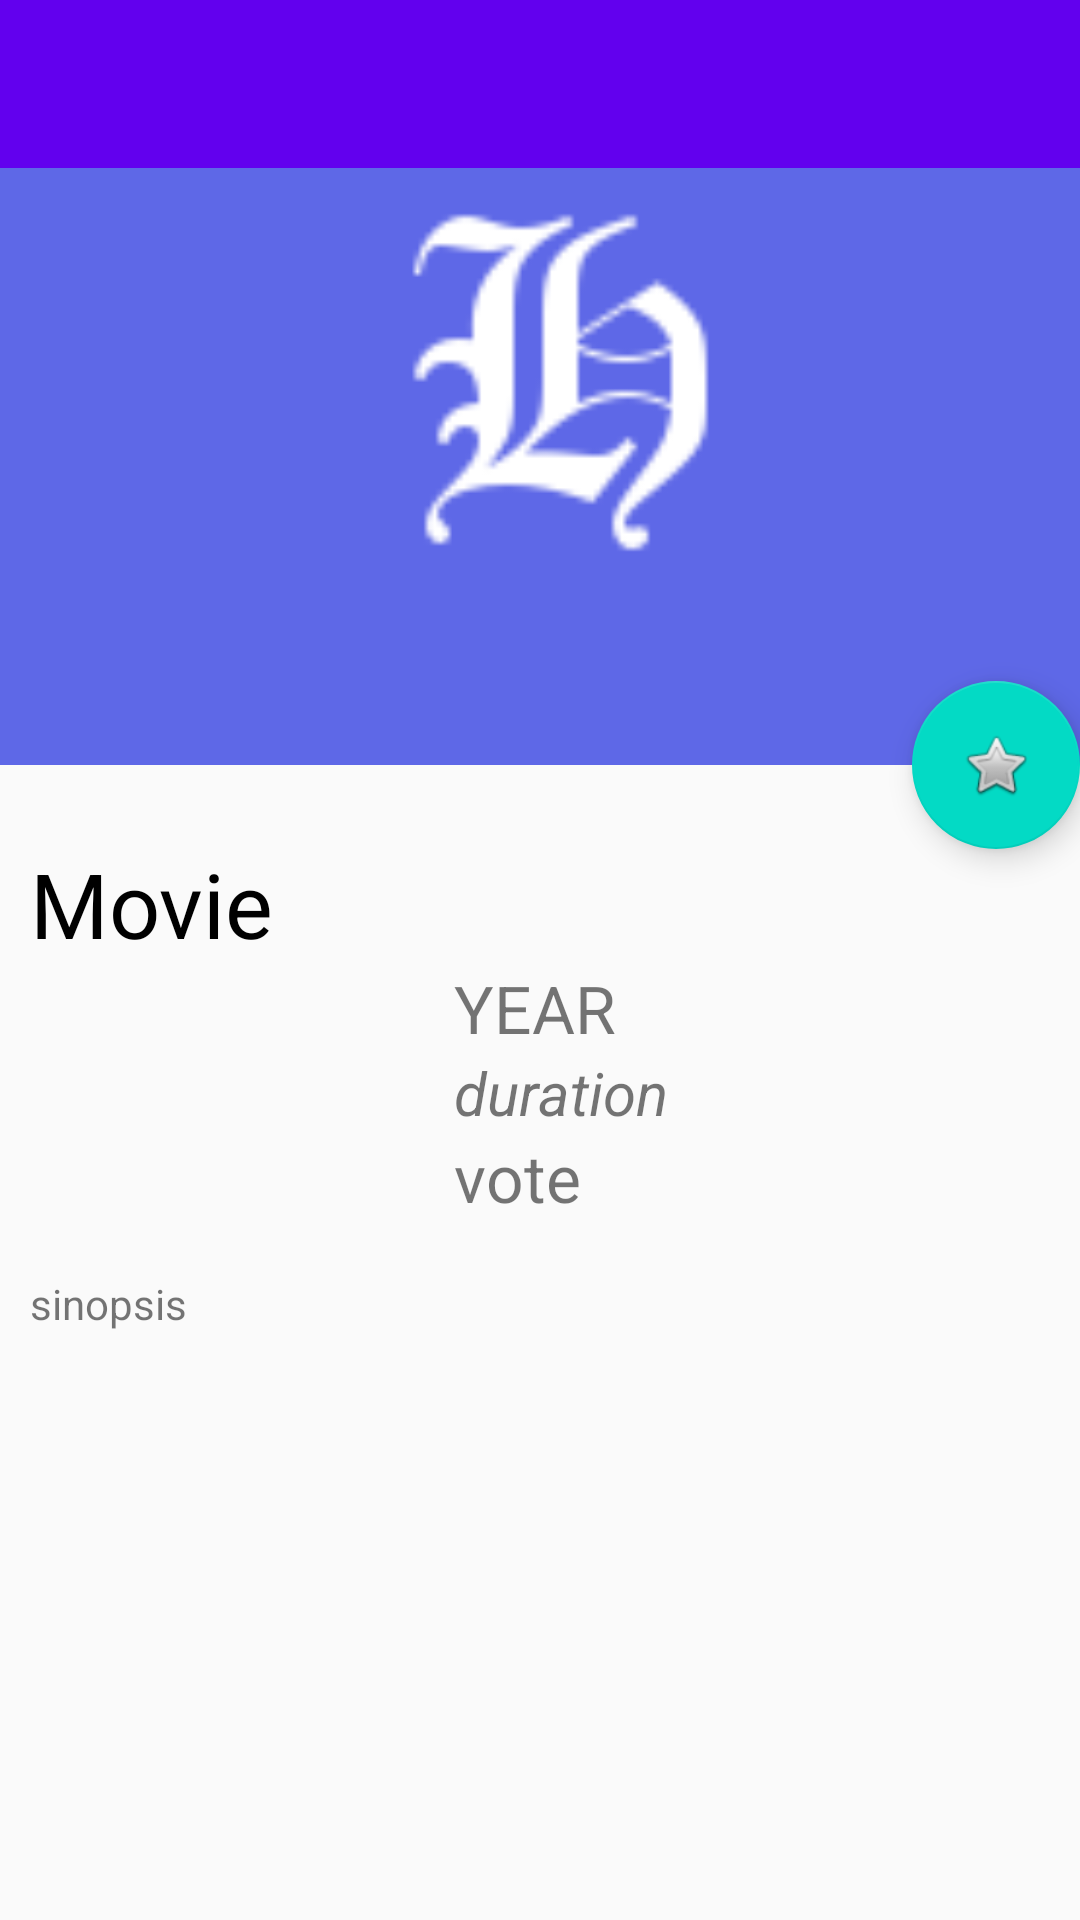

Icons on this 1080w x 1920h Android screen, each with the point to tap as (x,y):
star off: (996,765)
